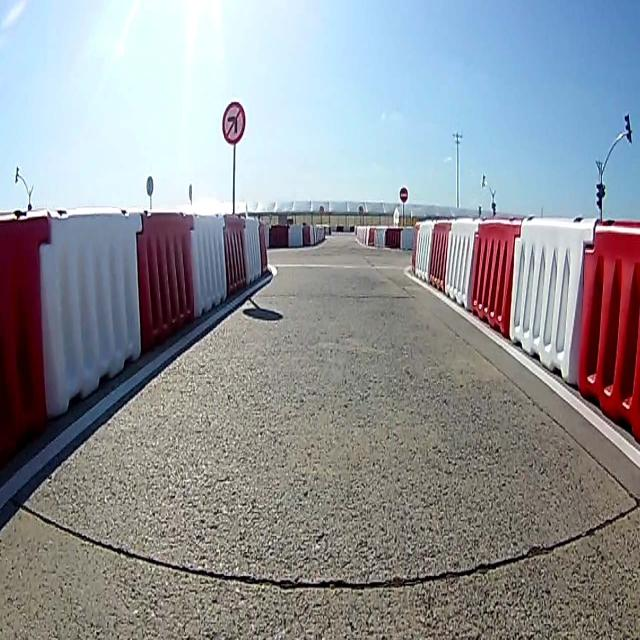girisyok: (398, 185, 410, 203)
soladonulmez: (224, 101, 242, 144)
